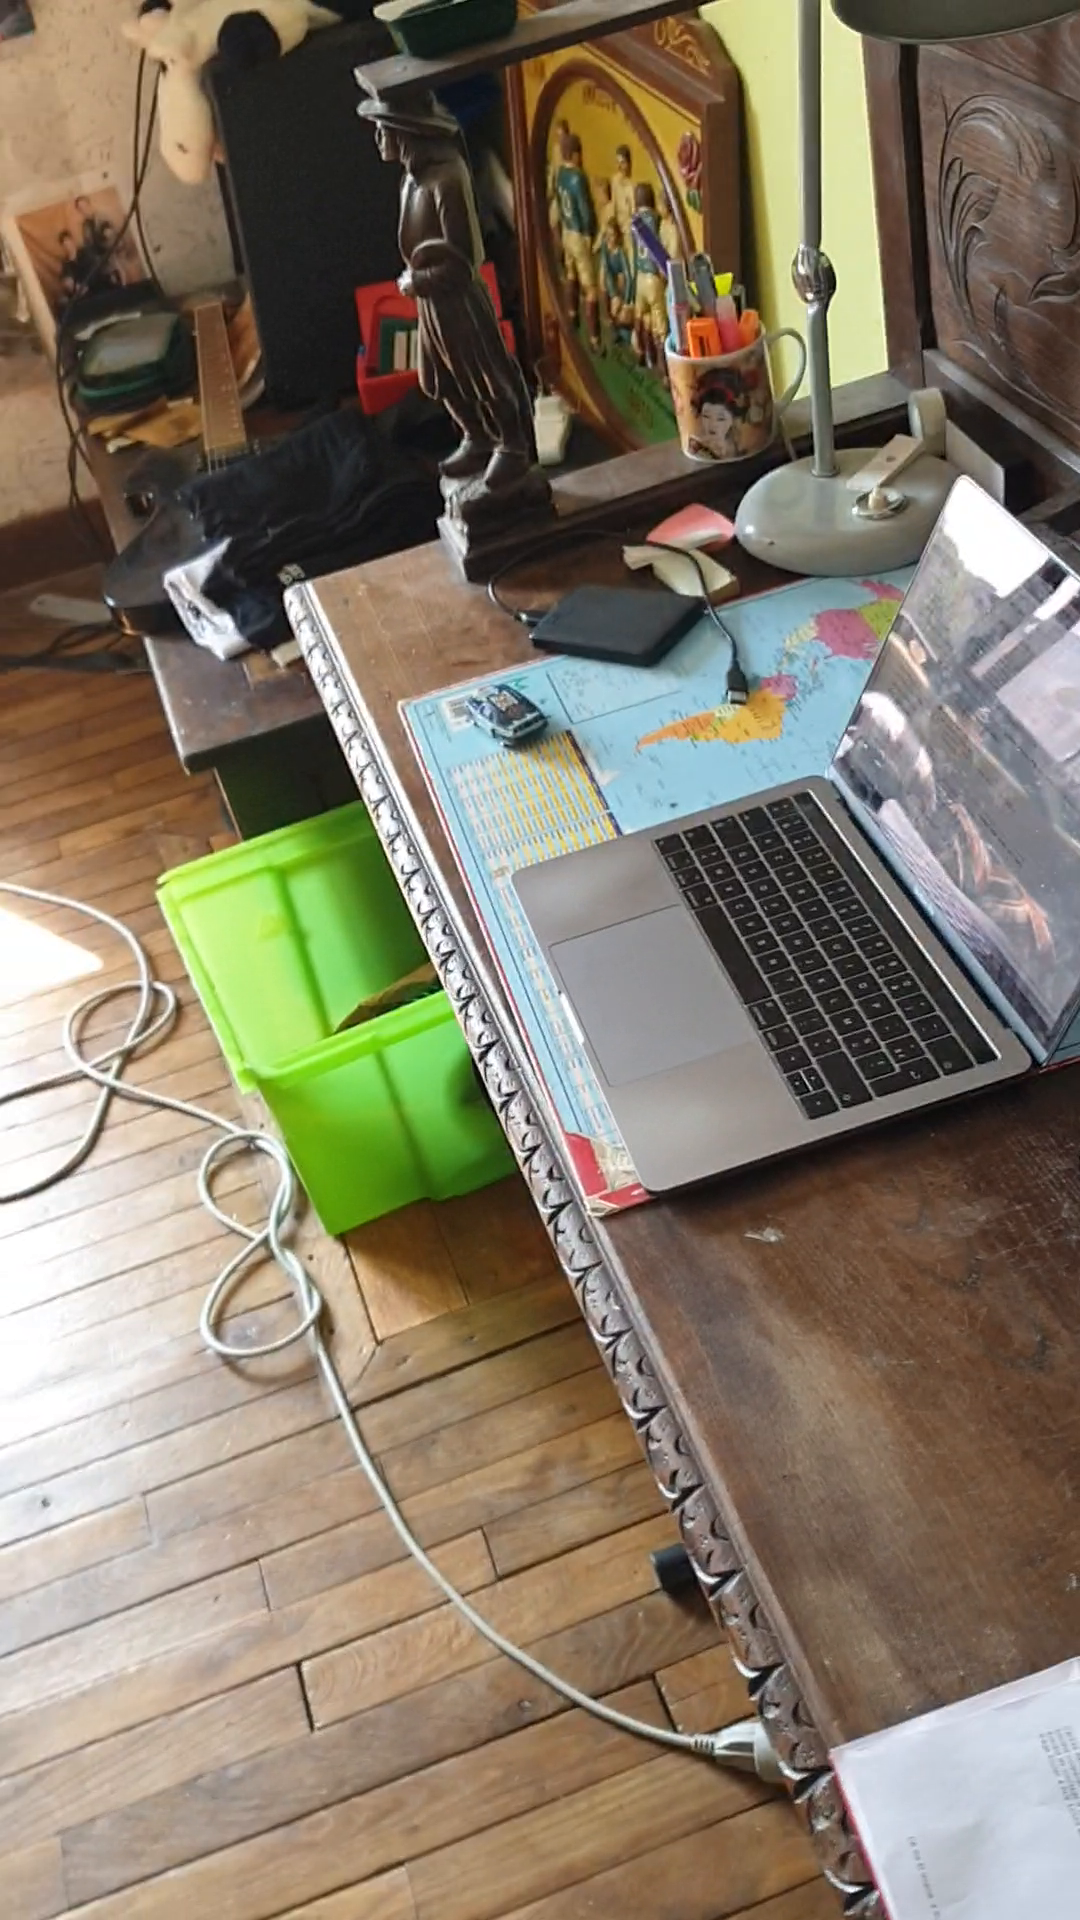cars: (465, 683, 550, 749)
